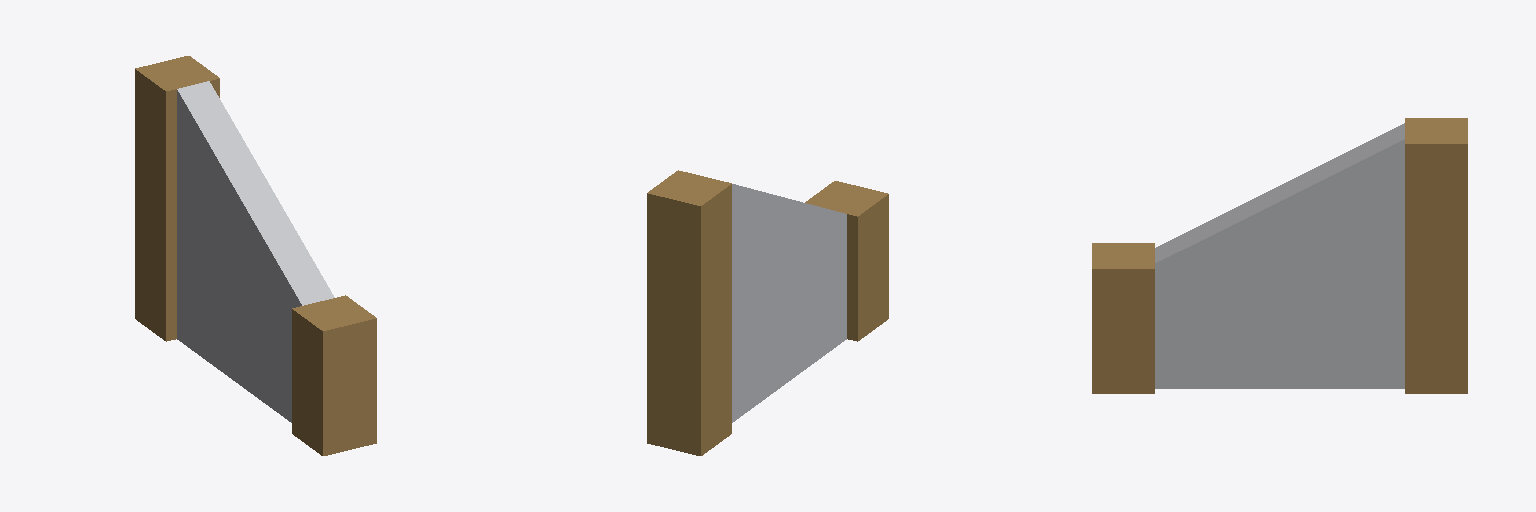
Rendered from Wood_Slanted_Wall_01.obj.
3 views of the same model, side by side, from view 1: azimuth 30°, elevation 25°; view 2: azimuth 150°, elevation 25°; view 3: azimuth 270°, elevation 25° (orthographic).
Parts seen in each view (by area): view 1: Mesh1 Wood_Slanted_Wall Model; view 2: Mesh1 Wood_Slanted_Wall Model; view 3: Mesh1 Wood_Slanted_Wall Model.
Boxes of the visible parts, x1=… form: Mesh1 Wood_Slanted_Wall Model: x1=135, y1=56, x2=376, y2=455; Mesh1 Wood_Slanted_Wall Model: x1=647, y1=170, x2=888, y2=455; Mesh1 Wood_Slanted_Wall Model: x1=1092, y1=118, x2=1467, y2=393.
Size of the model in its own units: 0.5 by 2.2 by 3.